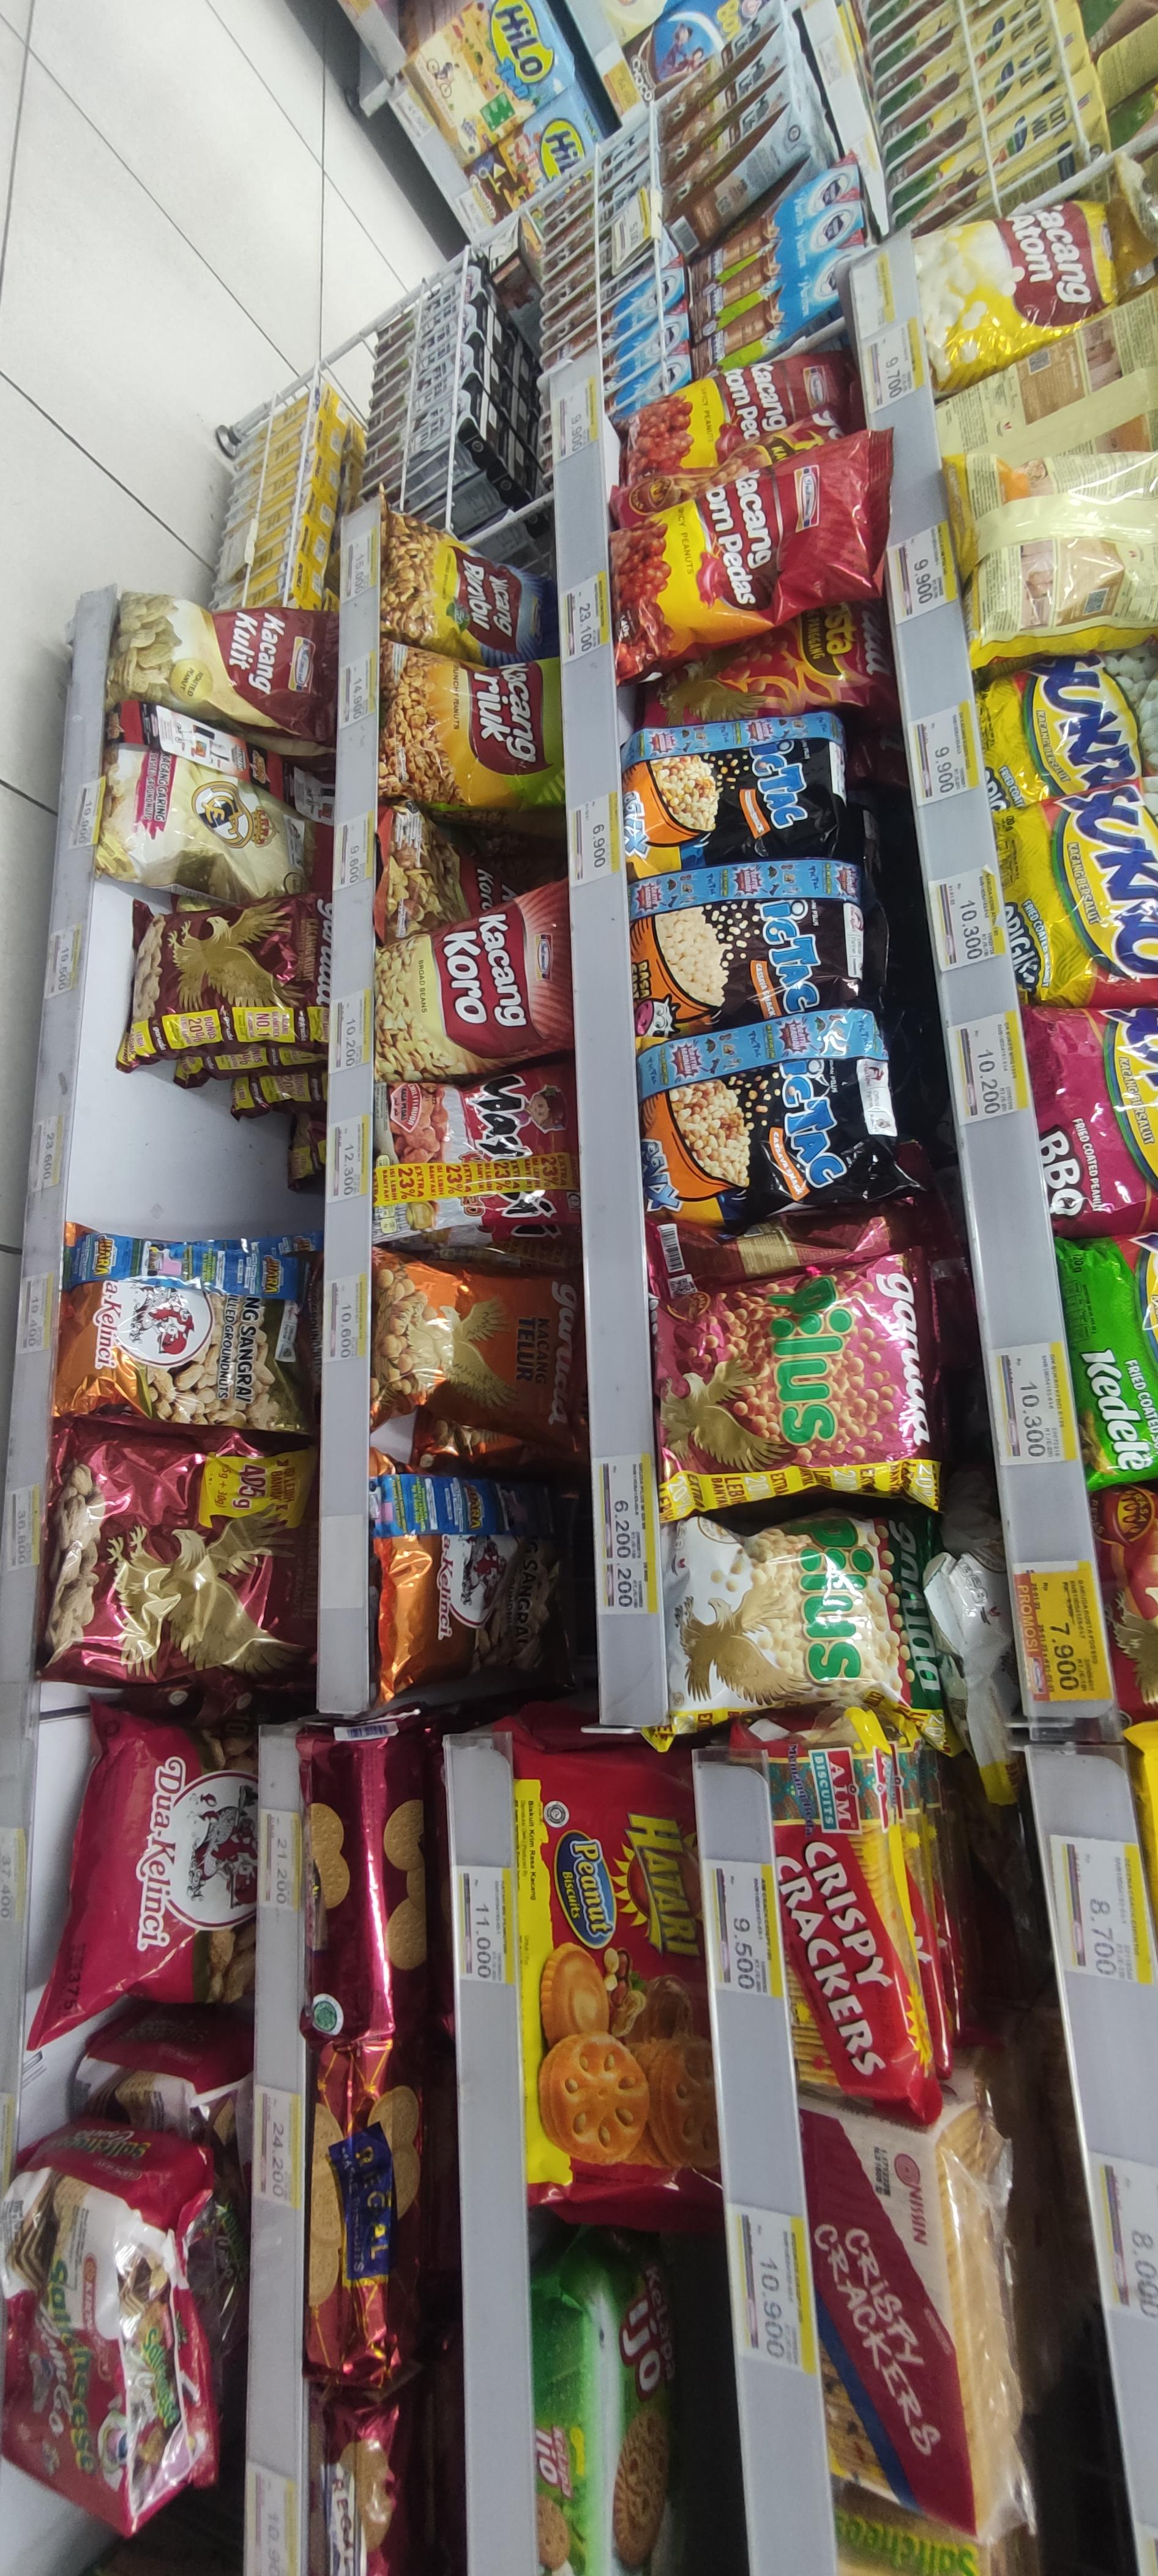90101111702100: (376, 1260, 588, 1439)
90101112103100: (122, 910, 337, 1074)
90101151201100: (654, 1288, 948, 1528)
90101151604100: (659, 1523, 958, 1738)
Garuda Kacang Kulit 405 gram: (44, 1441, 312, 1692)
KacangKoroIndomaret: (370, 897, 570, 1063)
KacangSangraiDuaKelinci: (59, 1222, 304, 1431)
MayasiPedas: (376, 1074, 577, 1240)
TicTacMix: (637, 1025, 903, 1224), (621, 711, 846, 869)
TicTacSapiPanggang: (627, 885, 869, 1022)
